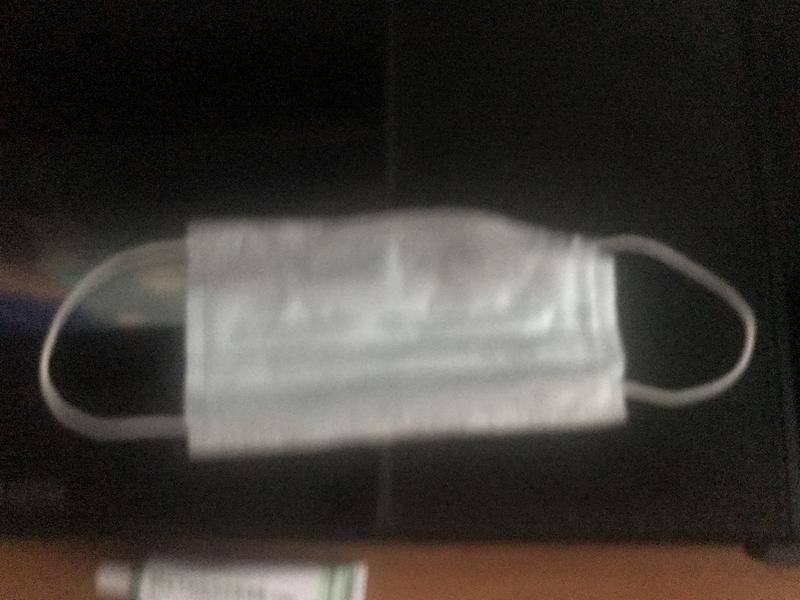medical_mask: (37, 208, 756, 460)
